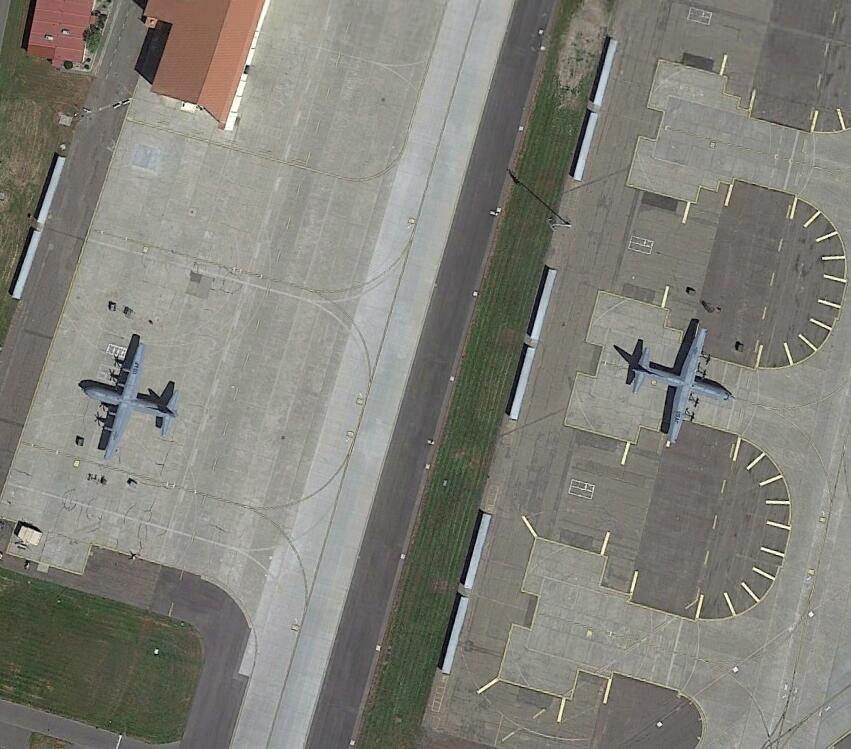A2: (630, 319, 735, 448), (81, 341, 186, 462)
